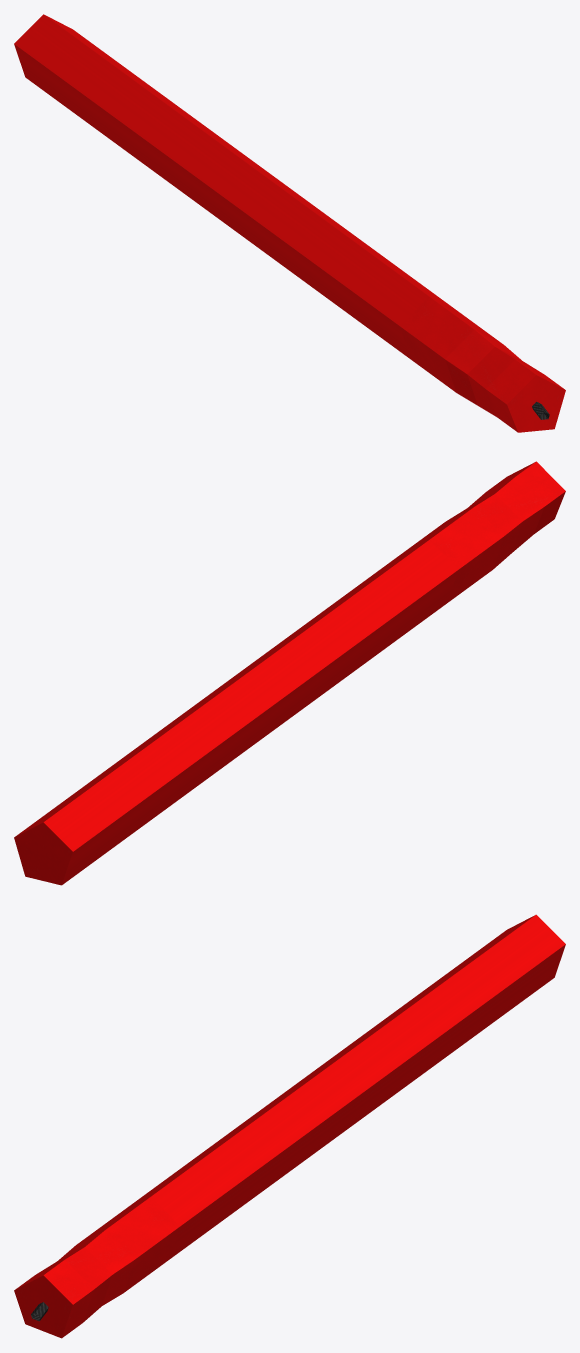
Rendered from dinamita.fbx.
The picture shows the model from 3 angles, top to bottom: view 1: azimuth 30°, elevation 25°; view 2: azimuth 150°, elevation 25°; view 3: azimuth 330°, elevation 25°; orthographic projection.
Parts seen in each view (by area): view 1: Dinamita; view 2: Dinamita; view 3: Dinamita.
Boxes of the visible parts, x1,y1,x2,y2 form: Dinamita: [14, 14, 565, 432]; Dinamita: [14, 461, 565, 885]; Dinamita: [14, 914, 565, 1338].
Size of the model in its own units: 4.61 by 4.38 by 67.73.
1 material, 1 textured.
